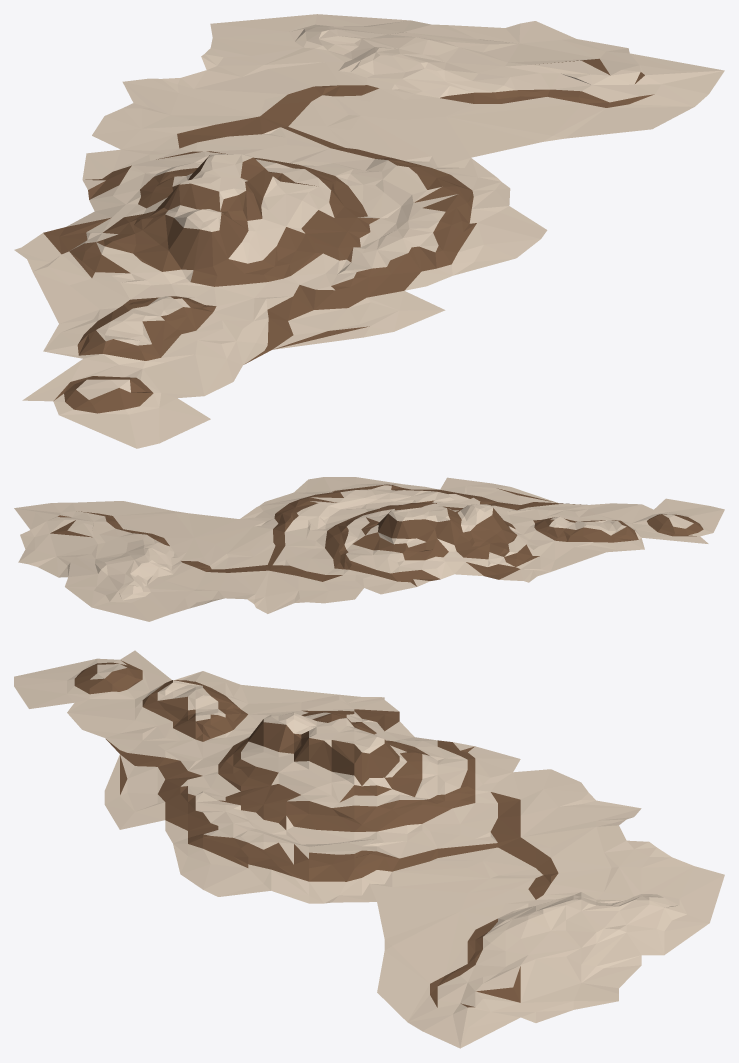
File: Terrain_smallMountains_009.fbx
3 views of the same model, one above another, from view 1: azimuth 30°, elevation 25°; view 2: azimuth 150°, elevation 25°; view 3: azimuth 270°, elevation 25° (orthographic). The views are drawn at different scales.
Visible parts, largest first — view 1: Terrain_smallMountains_009; view 2: Terrain_smallMountains_009; view 3: Terrain_smallMountains_009.
Boxes of the visible parts, box(x1,y1,x2,y2) form: Terrain_smallMountains_009: box(14, 14, 724, 448); Terrain_smallMountains_009: box(14, 477, 724, 621); Terrain_smallMountains_009: box(14, 650, 724, 1048).
Size of the model in its own units: 53.01 by 4.93 by 42.23.
